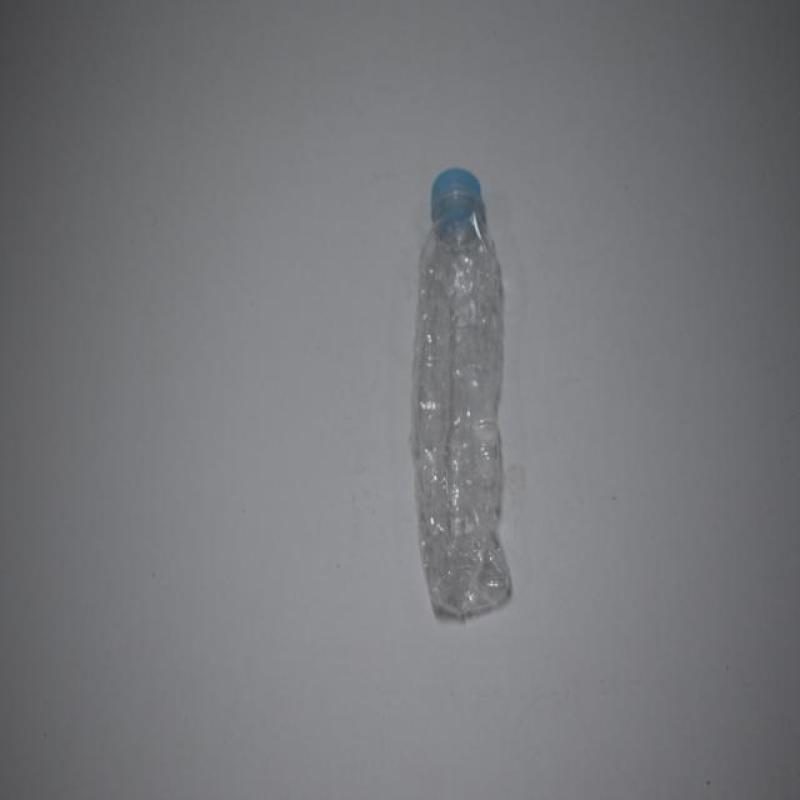botella: (408, 170, 512, 621)
